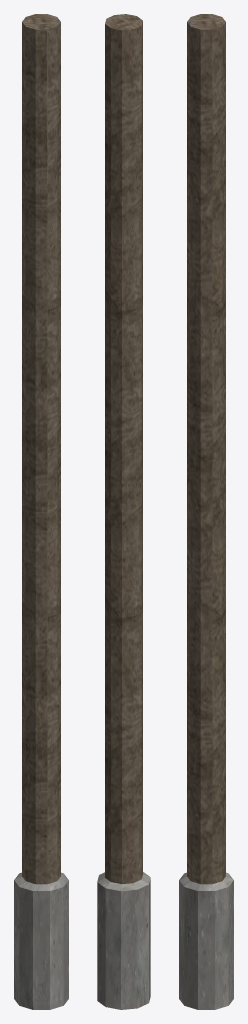
Rendered from pole_05.glb.
3 views of the same model, side by side, from view 1: azimuth 90°, elevation 25°; view 2: azimuth 210°, elevation 25°; view 3: azimuth 270°, elevation 25° (orthographic).
Parts seen in each view (by area): view 1: geometry_0; view 2: geometry_0; view 3: geometry_0.
Boxes of the visible parts, x1,y1,x2,y2 form: geometry_0: (14, 14, 68, 1009); geometry_0: (97, 14, 150, 1009); geometry_0: (179, 14, 233, 1009).
Size of the model in its own units: 0.0242 by 0.4999 by 0.0254.
1 material, 1 textured.
